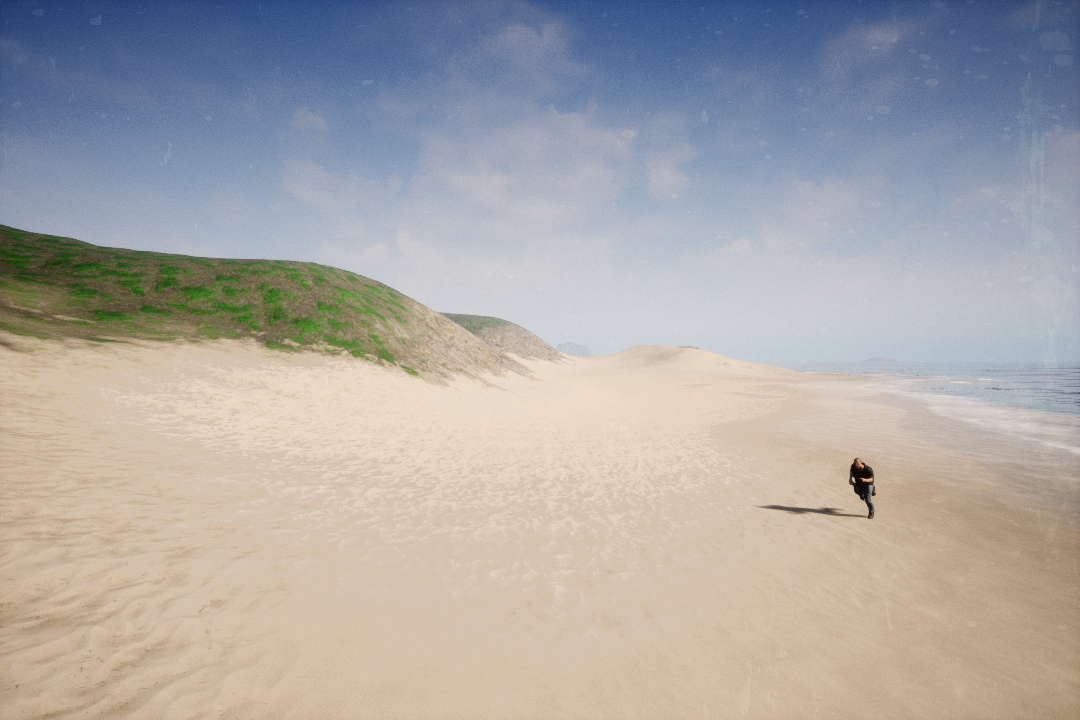person: (841, 456, 881, 519)
